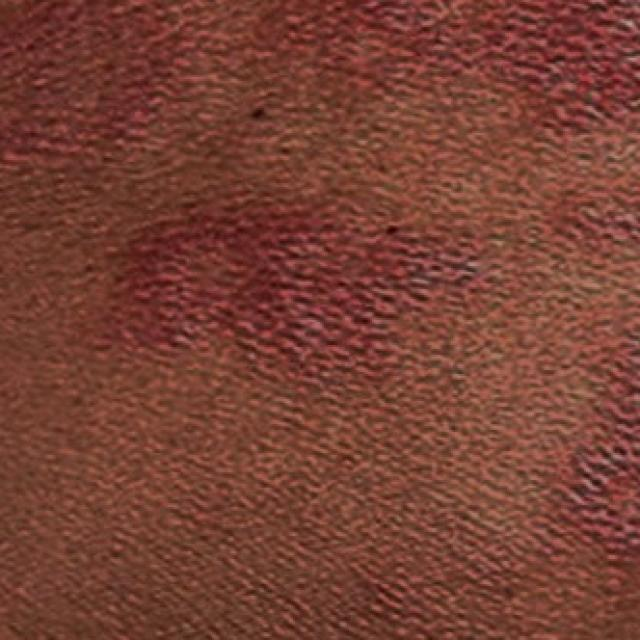Leprosy: (93, 204, 507, 384), (555, 313, 640, 602)
